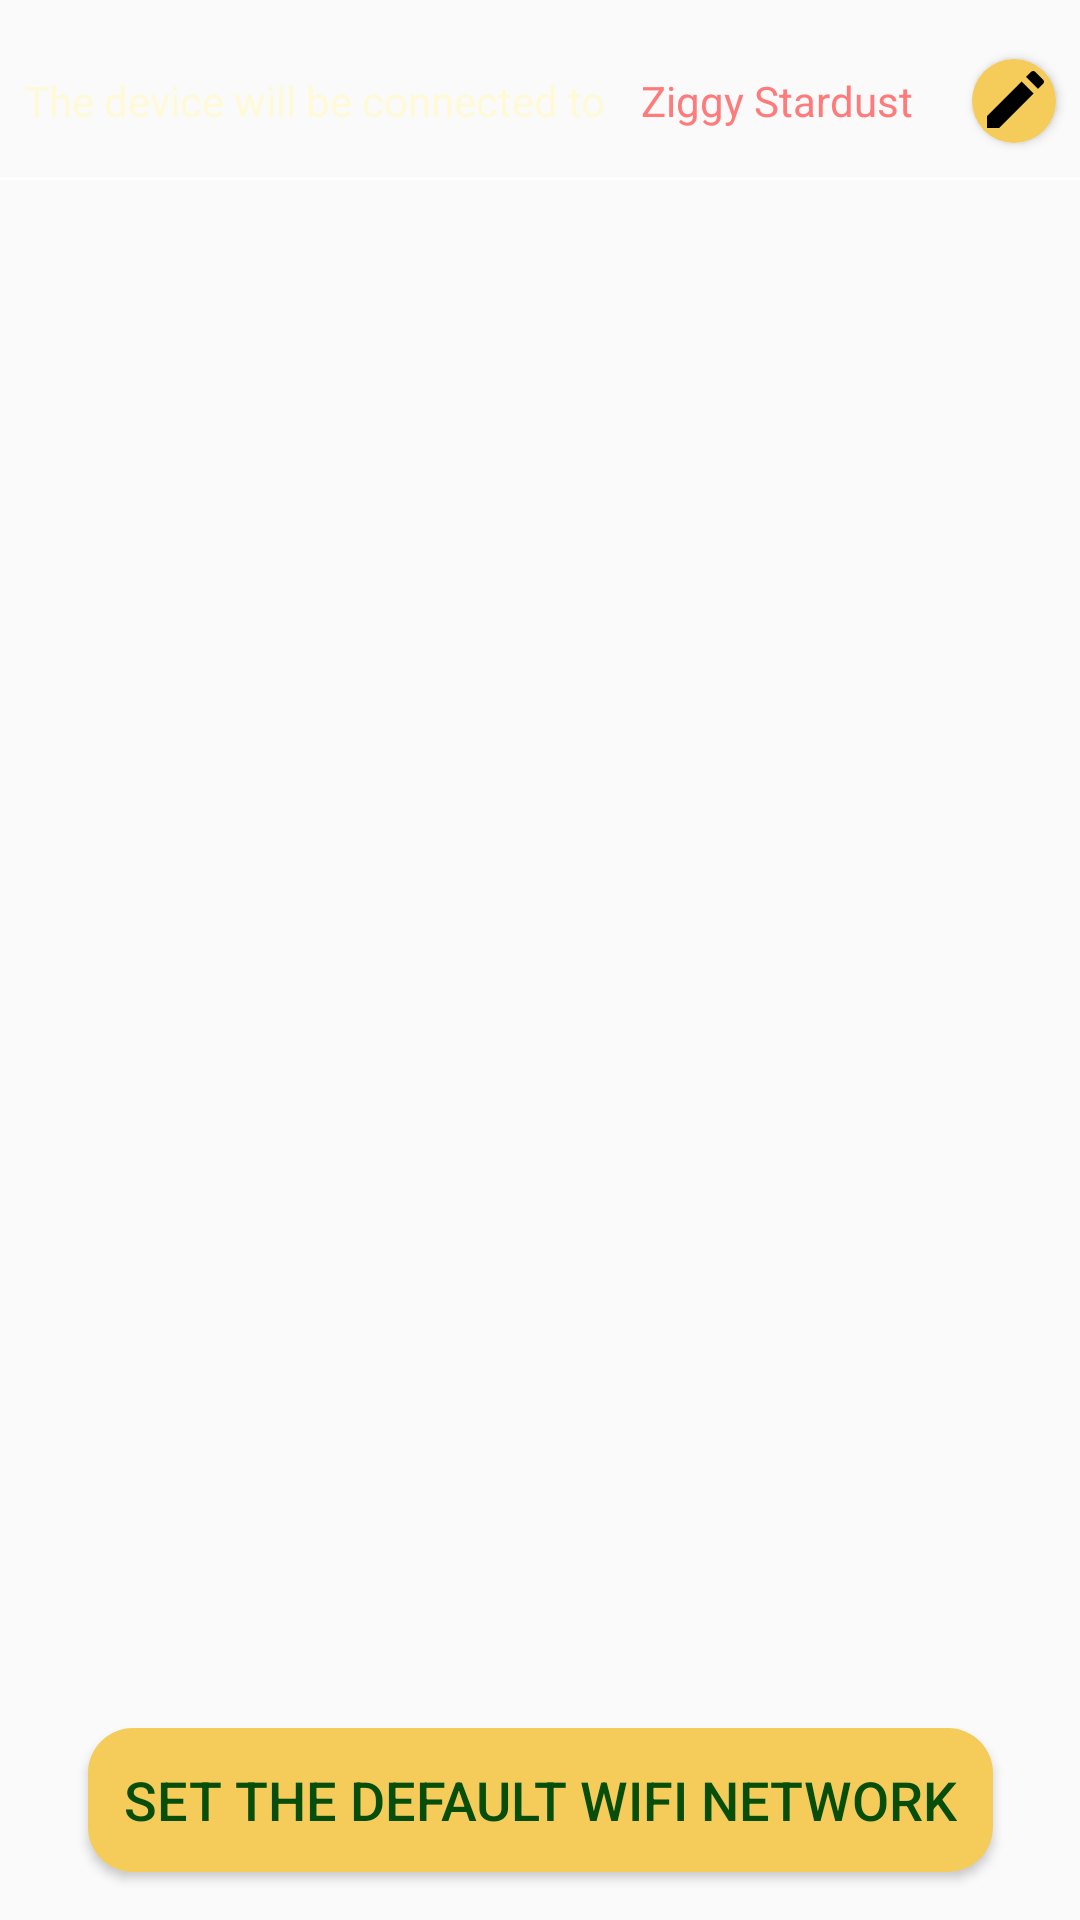

Icon bounding boxes for this 1080w x 1920h phone screenshot, format box=[x1, y1, x2, y2]:
edit: box=[972, 59, 1056, 143]
